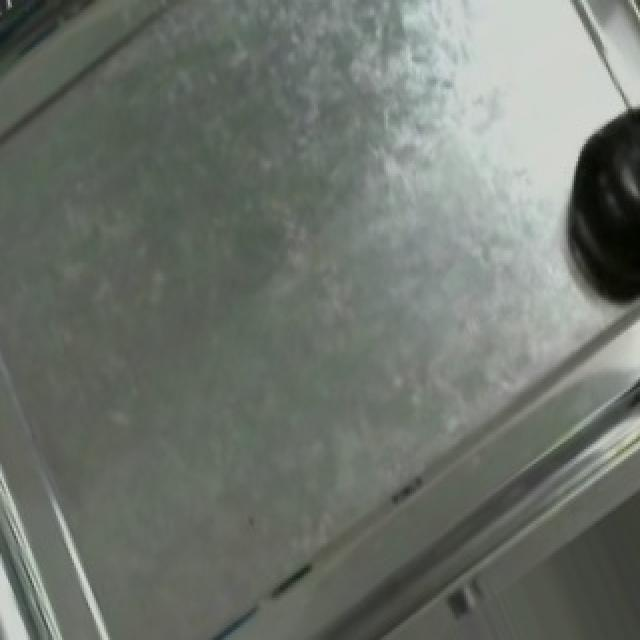Fruit: (552, 89, 640, 293)
